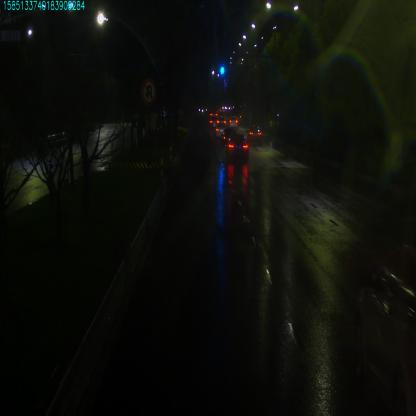traffic-light: (220, 64, 226, 77)
